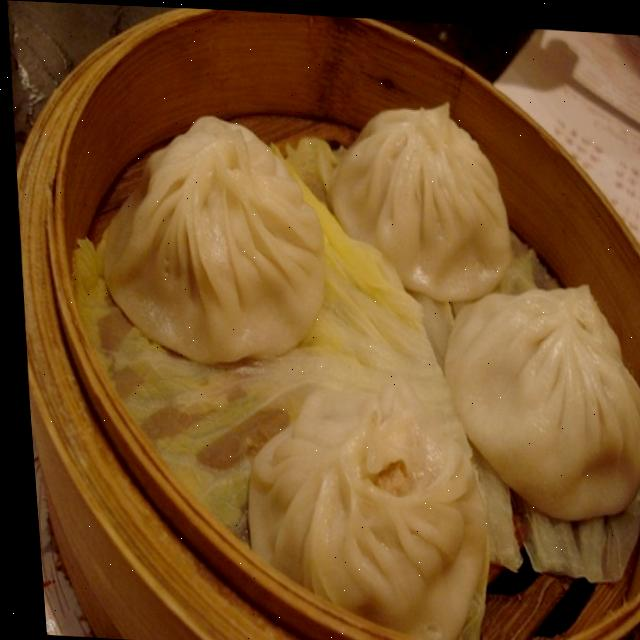带馅早点: (37, 48, 640, 639)
